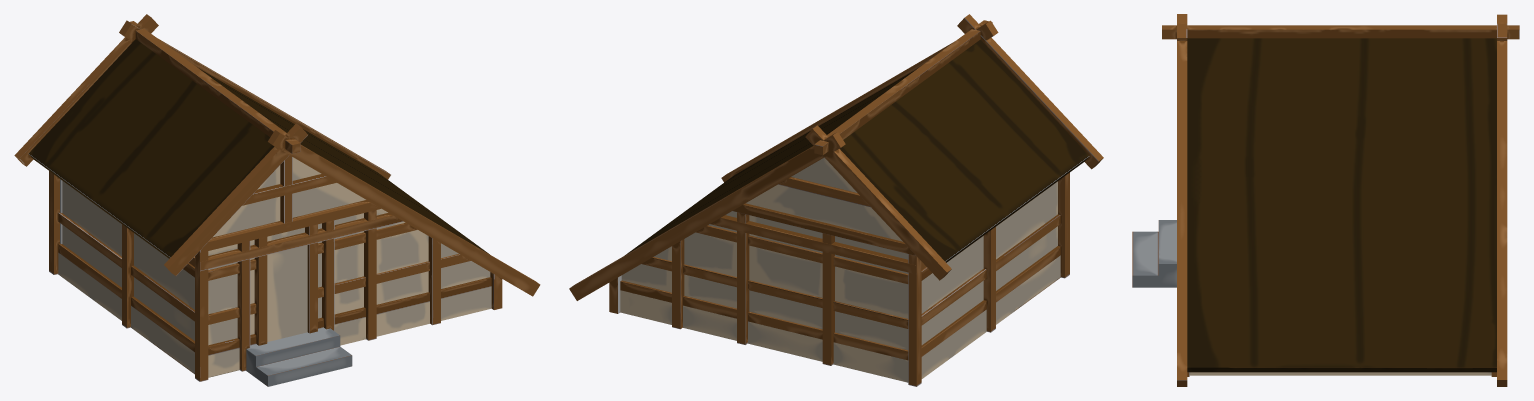
File: CasaPequena.fbx
The picture shows the model from 3 angles, left to right: view 1: azimuth 30°, elevation 25°; view 2: azimuth 150°, elevation 25°; view 3: azimuth 270°, elevation 25°; orthographic projection. The views are drawn at different scales.
Visible parts, largest first — view 1: casapequena_low; view 2: casapequena_low; view 3: casapequena_low.
Boxes of the visible parts, x1,y1,x2,y2 form: casapequena_low: [14, 14, 540, 386]; casapequena_low: [569, 14, 1103, 386]; casapequena_low: [1132, 14, 1519, 386].
Size of the model in its own units: 883 by 526 by 743.
